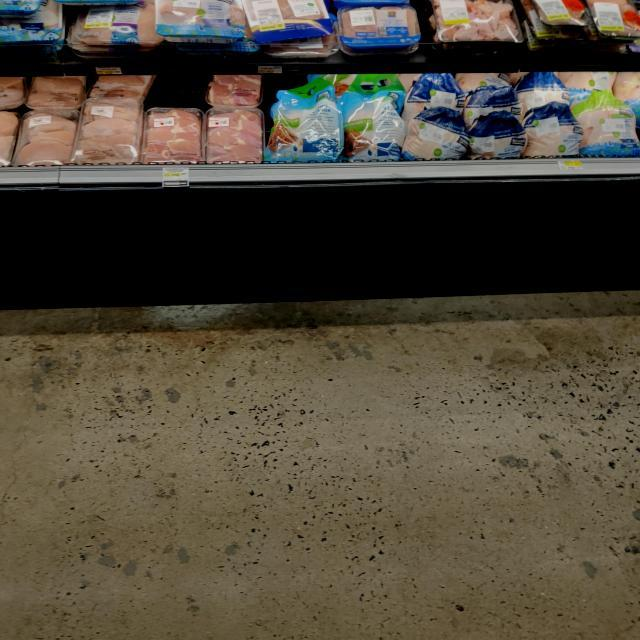Meat: (266, 79, 342, 159), (434, 0, 526, 52), (573, 90, 640, 159), (74, 107, 148, 166), (200, 102, 265, 167), (344, 92, 404, 162), (339, 5, 428, 52), (403, 106, 471, 167), (9, 108, 80, 166), (140, 101, 200, 169), (464, 104, 526, 168), (515, 99, 580, 160), (242, 0, 326, 43), (153, 0, 244, 39), (522, 0, 592, 39), (585, 0, 640, 45)
